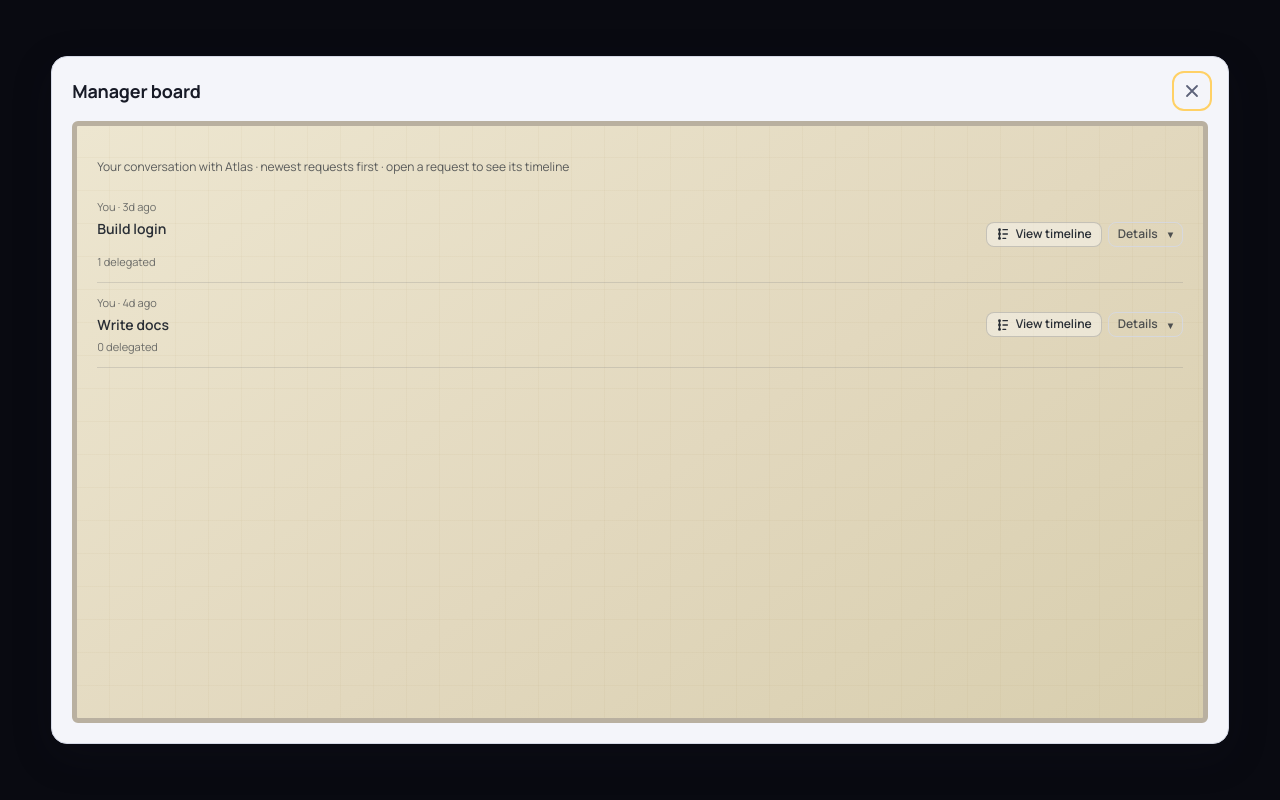
it: Manager board › a step's task drawer closes on Escape before the timeline does
Step 1. Click the 1st button with test id "manager-view-timeline" → (1044, 234), box [986,222,1102,247]
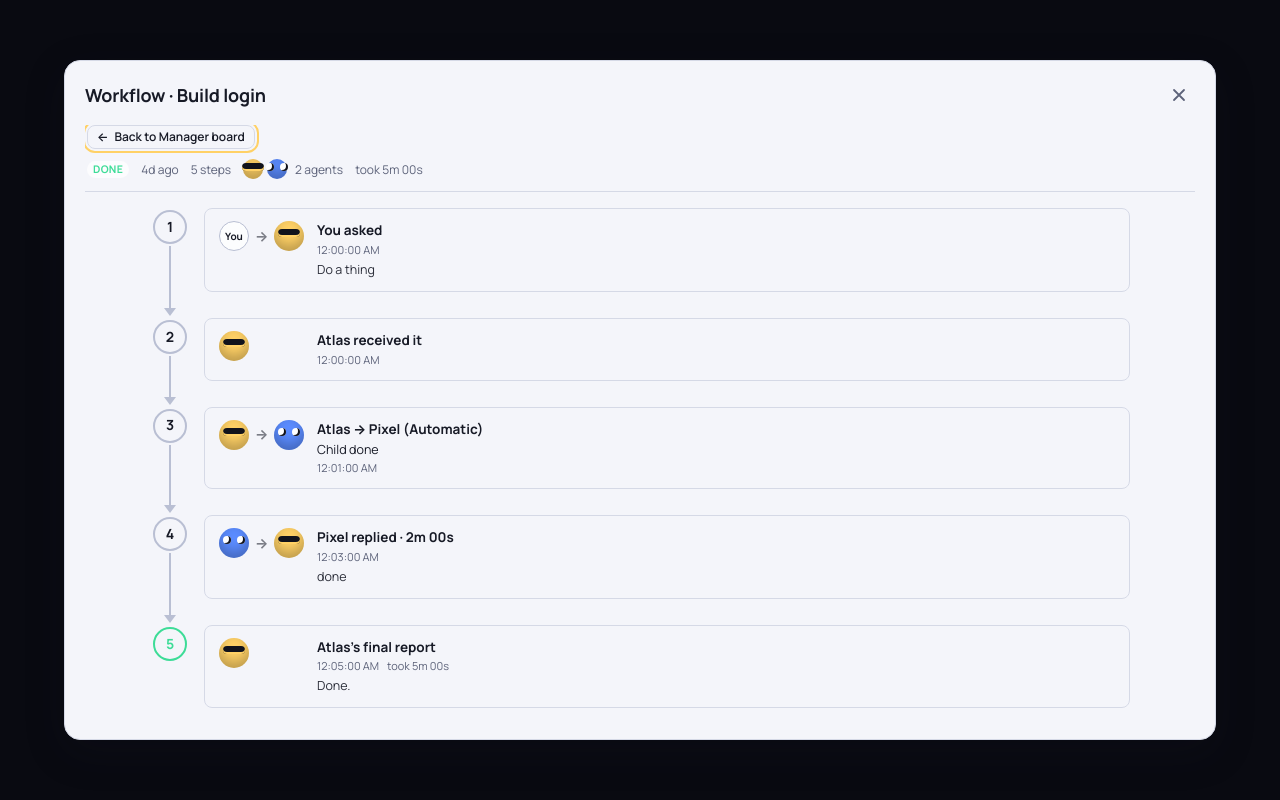
Step 2. Click the button "Atlas → Pixel (Automatic)" → (400, 429), box [317,420,483,439]
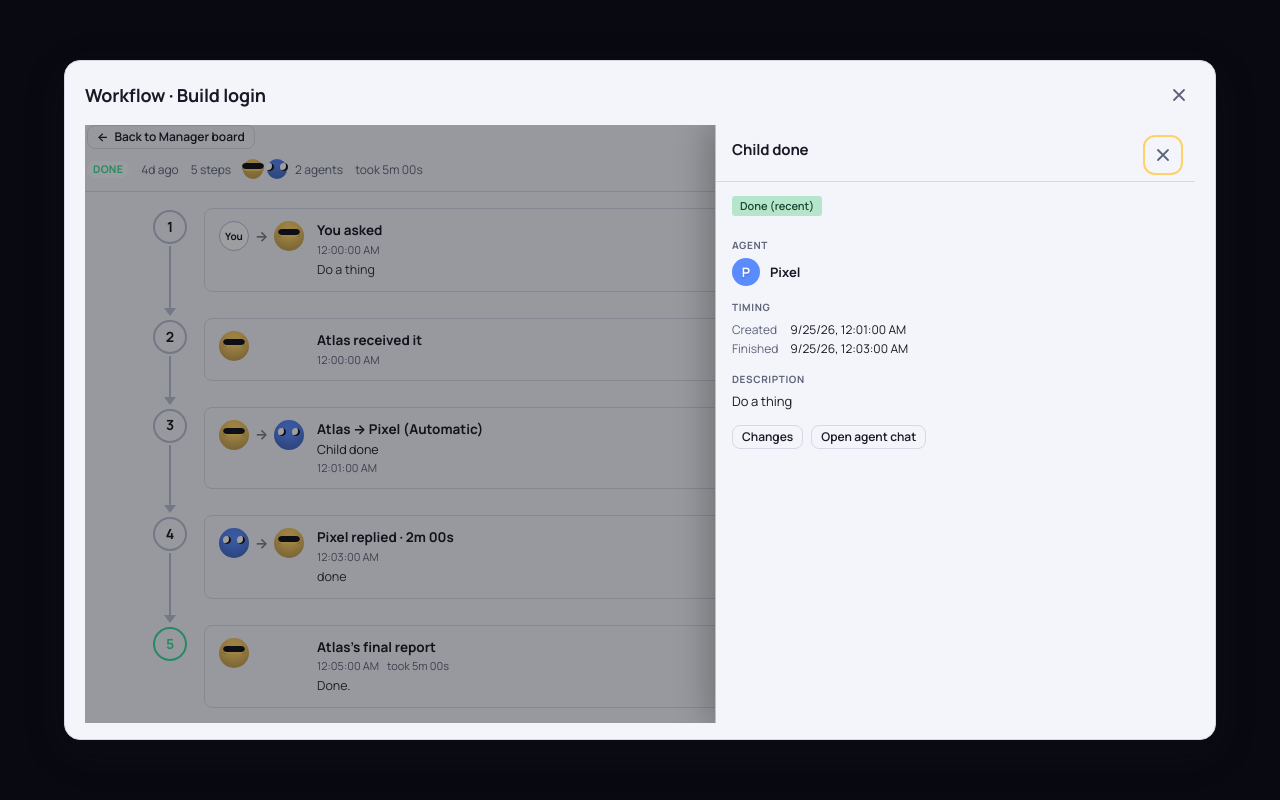
Result: the element with test id "task-drawer" is shown at [715,125,1195,723]
Step 3. Press Escape
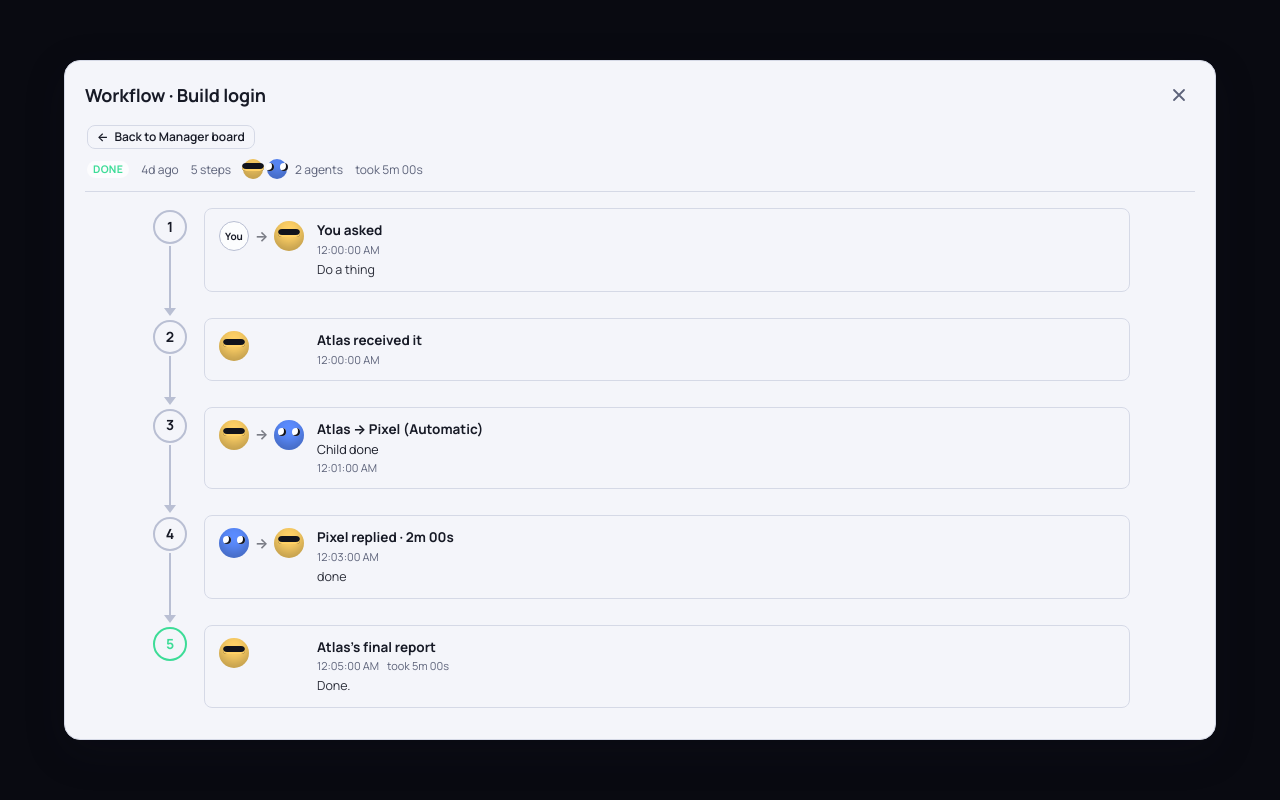
Result: the element with test id "workflow-board" is shown
Result: the element with test id "task-drawer" is gone
